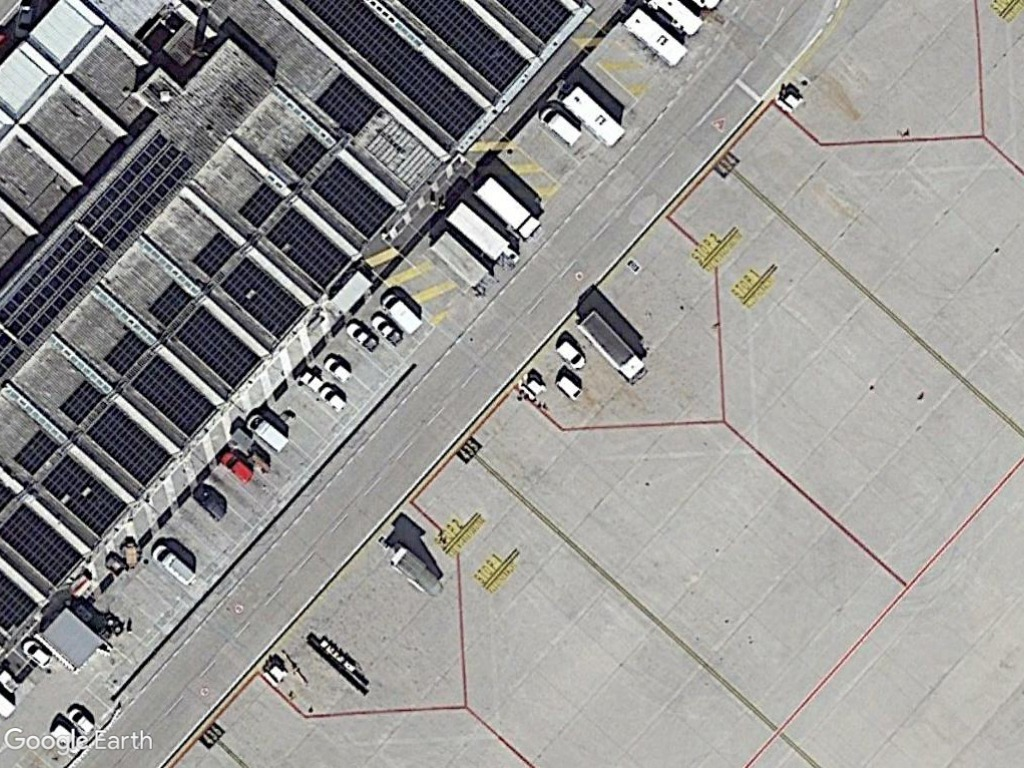car: (368, 311, 407, 346), (18, 638, 57, 672), (342, 320, 381, 353), (316, 384, 352, 416), (321, 355, 356, 386), (64, 705, 99, 736)
truck: (575, 311, 651, 387), (443, 197, 520, 272), (472, 175, 545, 240)
van: (537, 106, 587, 150), (149, 544, 201, 586), (378, 292, 426, 337), (240, 414, 294, 454), (213, 448, 256, 484), (553, 336, 590, 373), (552, 370, 584, 401)
